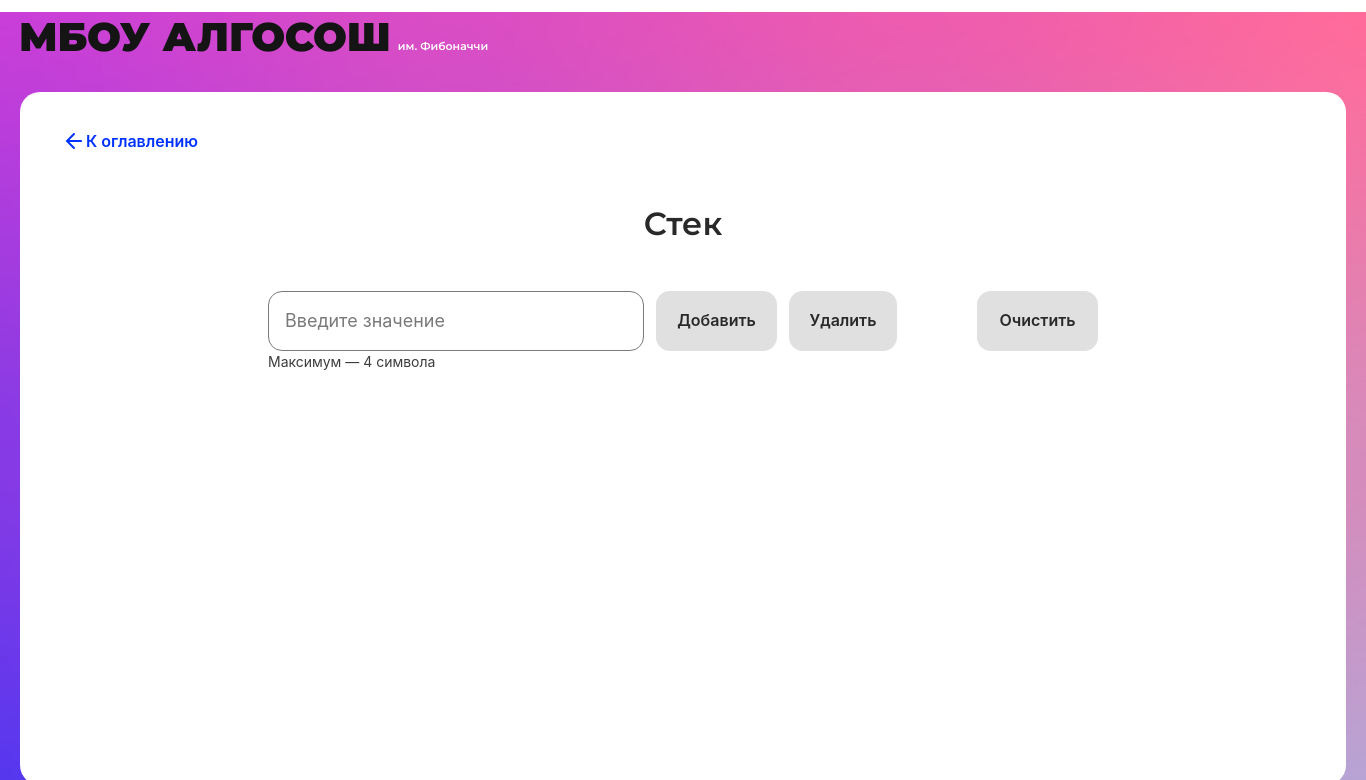
Test: Testing Stack Page › should have a disabled submit button when input is empty
The image size is (1366, 780).
Expected: the submit button is disabled, [656,291,777,351]
Expected: the element named "stackInput" is enabled
In the field named "stackInput": (456, 321) [268,291,644,351], type "19"
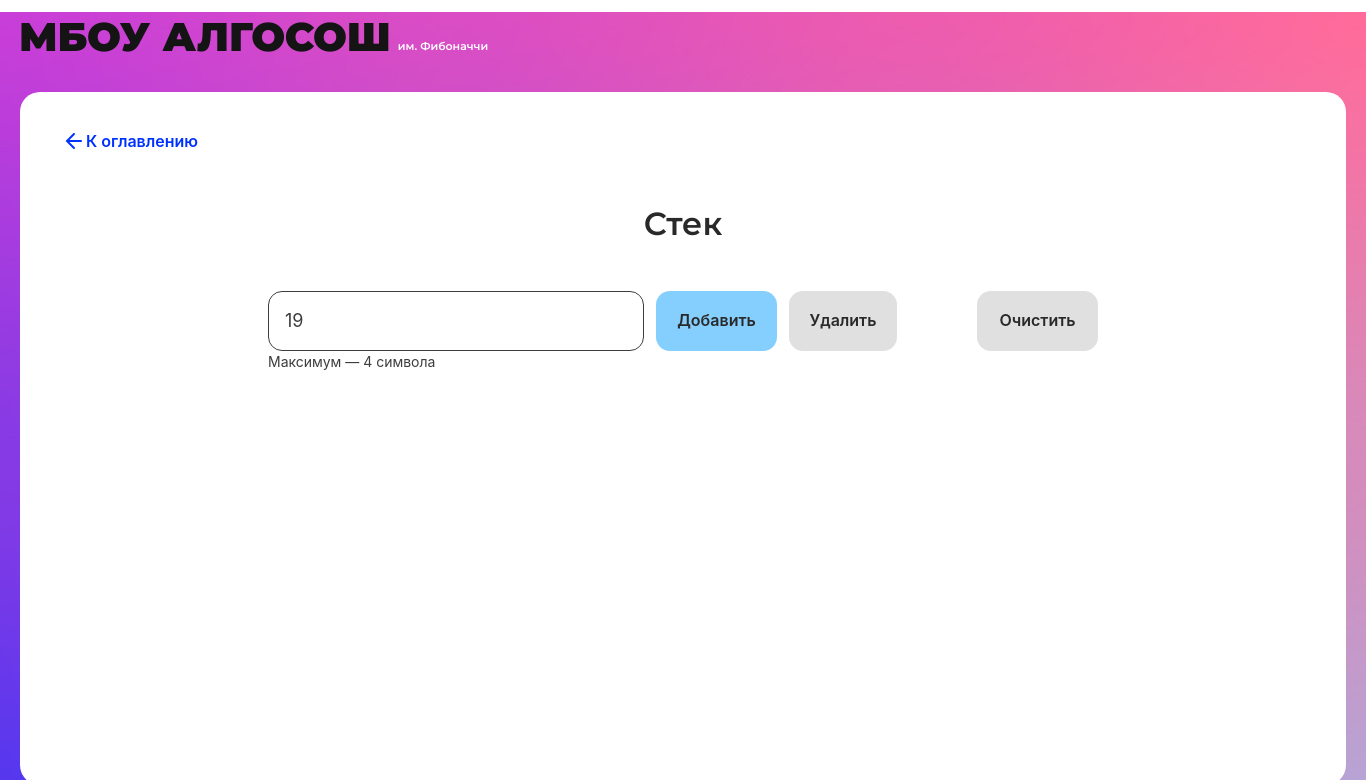
Expected: the submit button is enabled
Clear the field named "stackInput": (456, 321) [268,291,644,351]
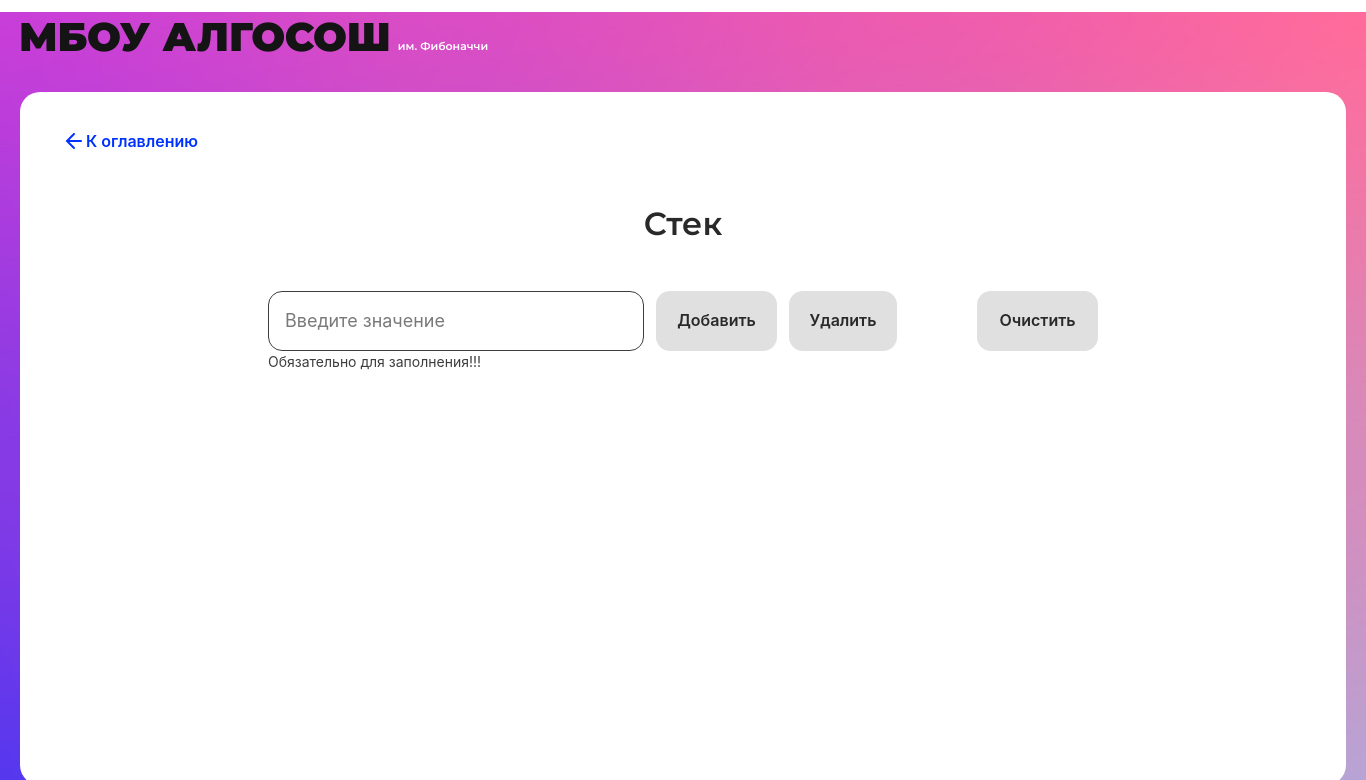
Expected: the submit button is disabled, [656,291,777,351]
